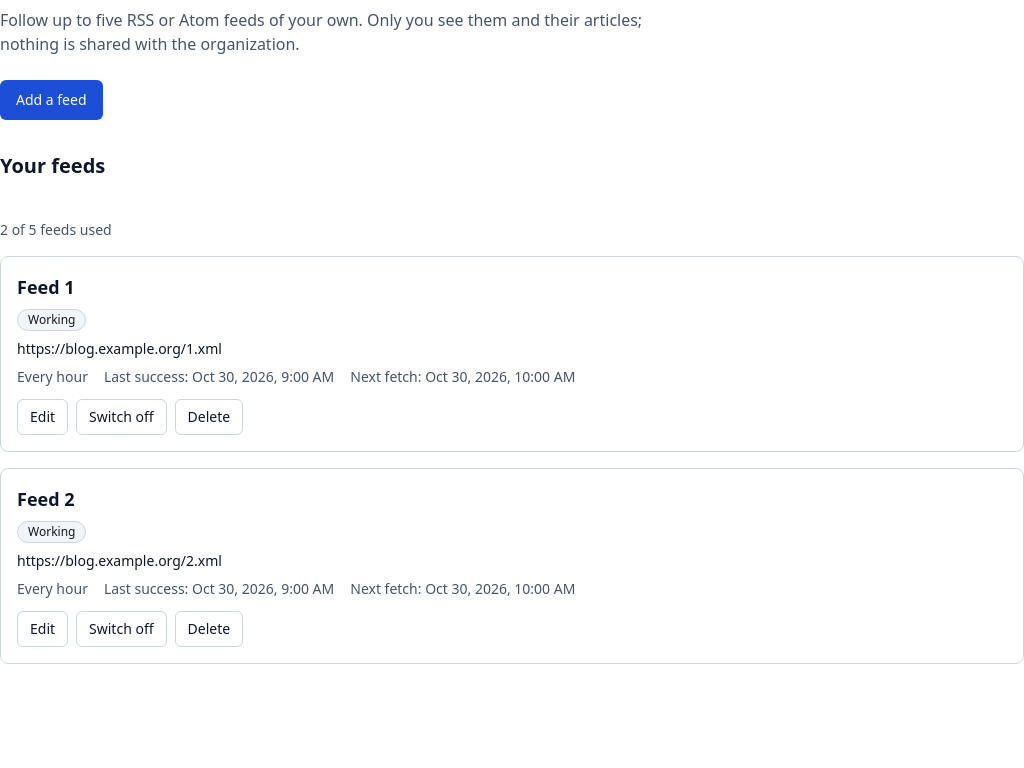
Test: adding › tells source_limit for the whole form
This screenshot has width=1024, height=768.
Click the button "Add a feed" at point(51, 100), box top-left (0, 80), bottom-right (102, 120)
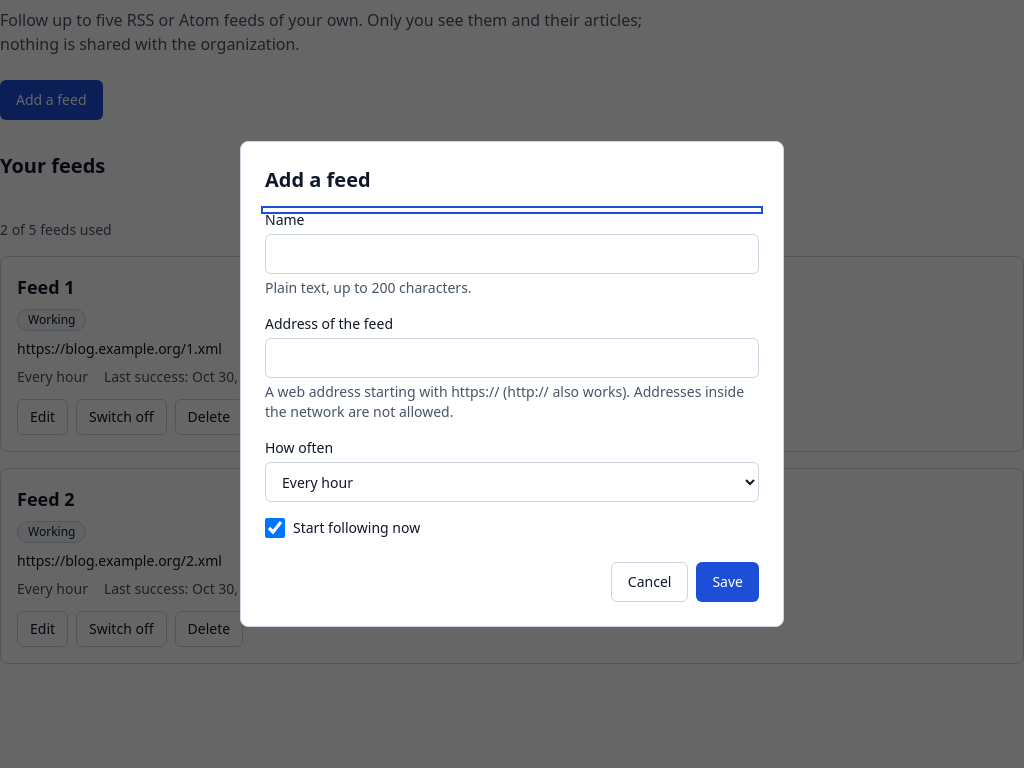
Type "Fresh" into the field labelled "Name" at point(512, 254), box top-left (265, 234), bottom-right (759, 274)
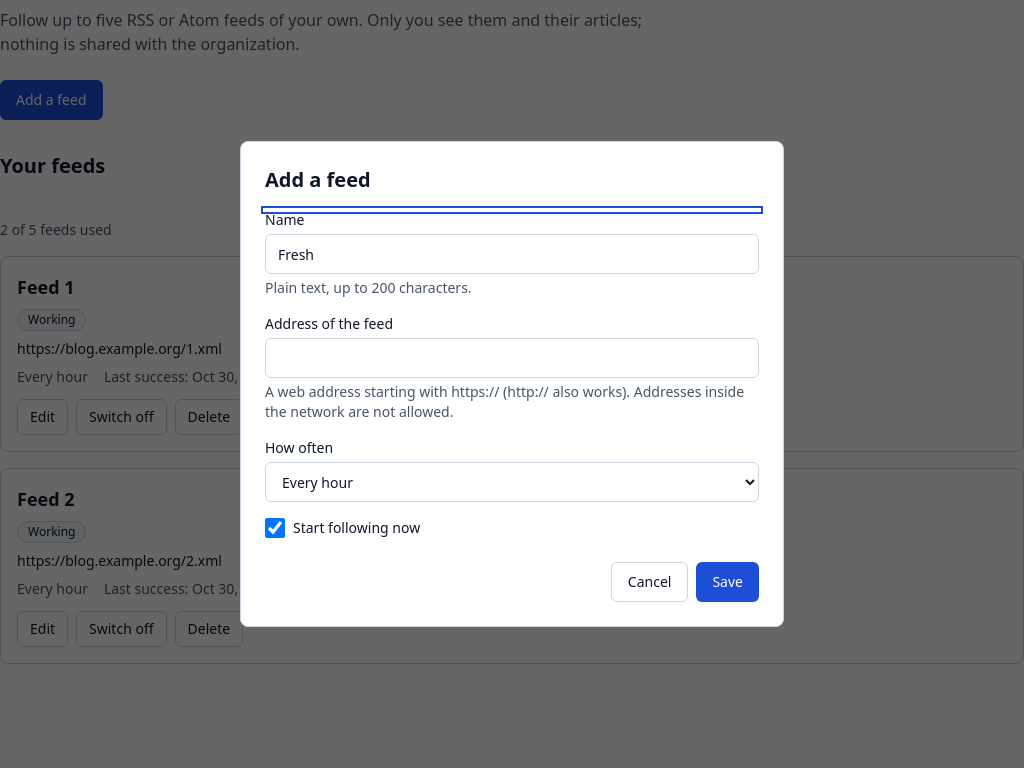
Type "https://fresh.example.org/feed.xml" into the field labelled "Address of the feed" at point(512, 358), box top-left (265, 338), bottom-right (759, 378)
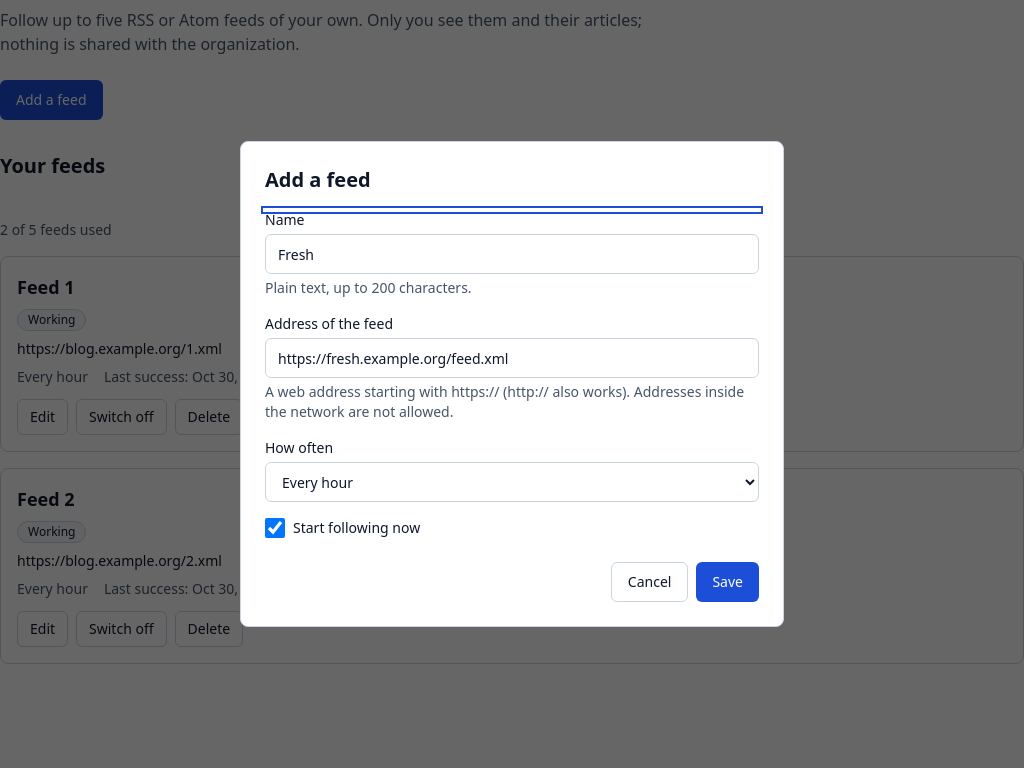
Click the button "Save" at point(728, 582), box top-left (696, 562), bottom-right (759, 602)
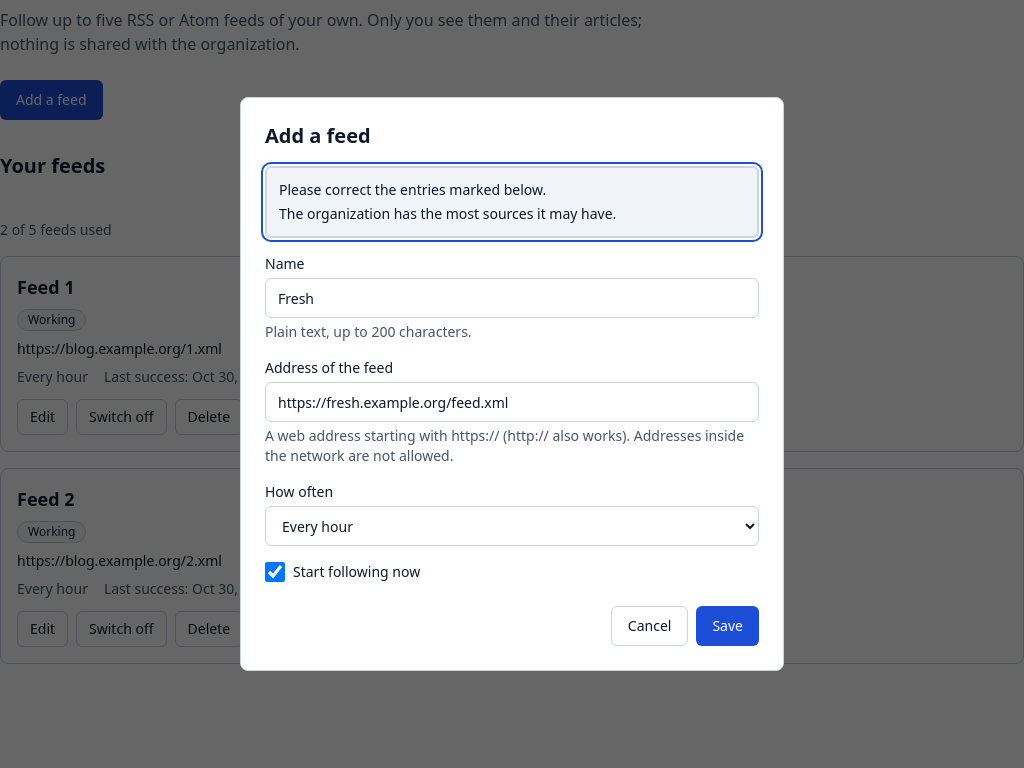
Expected: the text "The organization has the most sources it may have." is shown, top-left (279, 204), bottom-right (616, 223)
